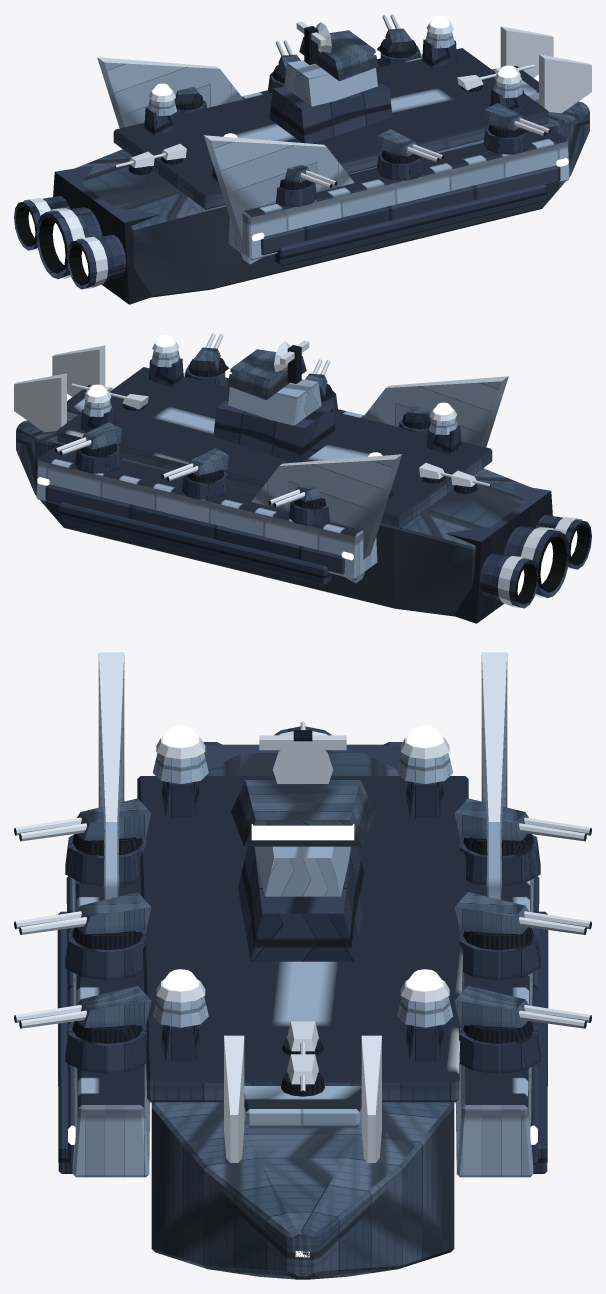
The model's file is cruiser.glb.
3 views of the same model, one above another, from view 1: azimuth 30°, elevation 25°; view 2: azimuth 150°, elevation 25°; view 3: azimuth 270°, elevation 25° (orthographic). The views are drawn at different scales.
Visible parts, largest first — view 1: hull_body, engine_block, sensor_tower, weapon_turrets, shield_pylons; view 2: hull_body, engine_block, sensor_tower, weapon_turrets, shield_pylons; view 3: hull_body, weapon_turrets, sensor_tower, shield_pylons, engine_block.
Boxes of the visible parts, bbox=[...] form: hull_body: bbox=[75, 26, 591, 297]; engine_block: bbox=[14, 165, 159, 304]; sensor_tower: bbox=[269, 21, 392, 143]; weapon_turrets: bbox=[115, 14, 550, 206]; shield_pylons: bbox=[144, 15, 525, 182]; hull_body: bbox=[14, 345, 530, 616]; engine_block: bbox=[446, 484, 591, 623]; sensor_tower: bbox=[213, 340, 336, 462]; weapon_turrets: bbox=[55, 333, 490, 525]; shield_pylons: bbox=[80, 334, 461, 501]; hull_body: bbox=[57, 652, 548, 1279]; weapon_turrets: bbox=[14, 721, 591, 1096]; sensor_tower: bbox=[231, 730, 374, 961]; shield_pylons: bbox=[153, 725, 452, 1061]; engine_block: bbox=[203, 726, 402, 769].
Size of the model in its own units: 42 by 15.2 by 21.91.
Materials: 1 (1 with a texture image).
